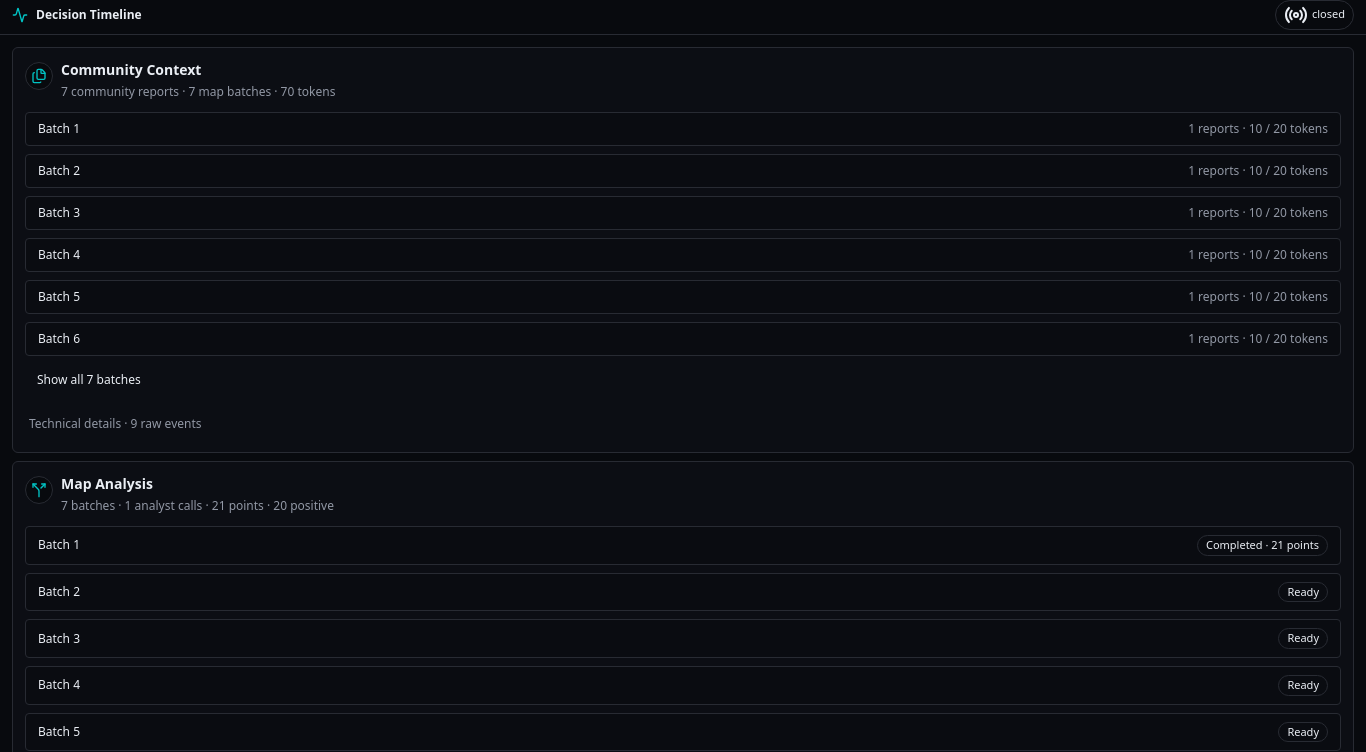
Test: Global Timeline › bounds large batch and point lists with Show all and Show fewer controls
Expected: the text "Batch 7" is not shown
Click the button "Show all 7 batches": [89, 380] box [25, 364, 153, 396]
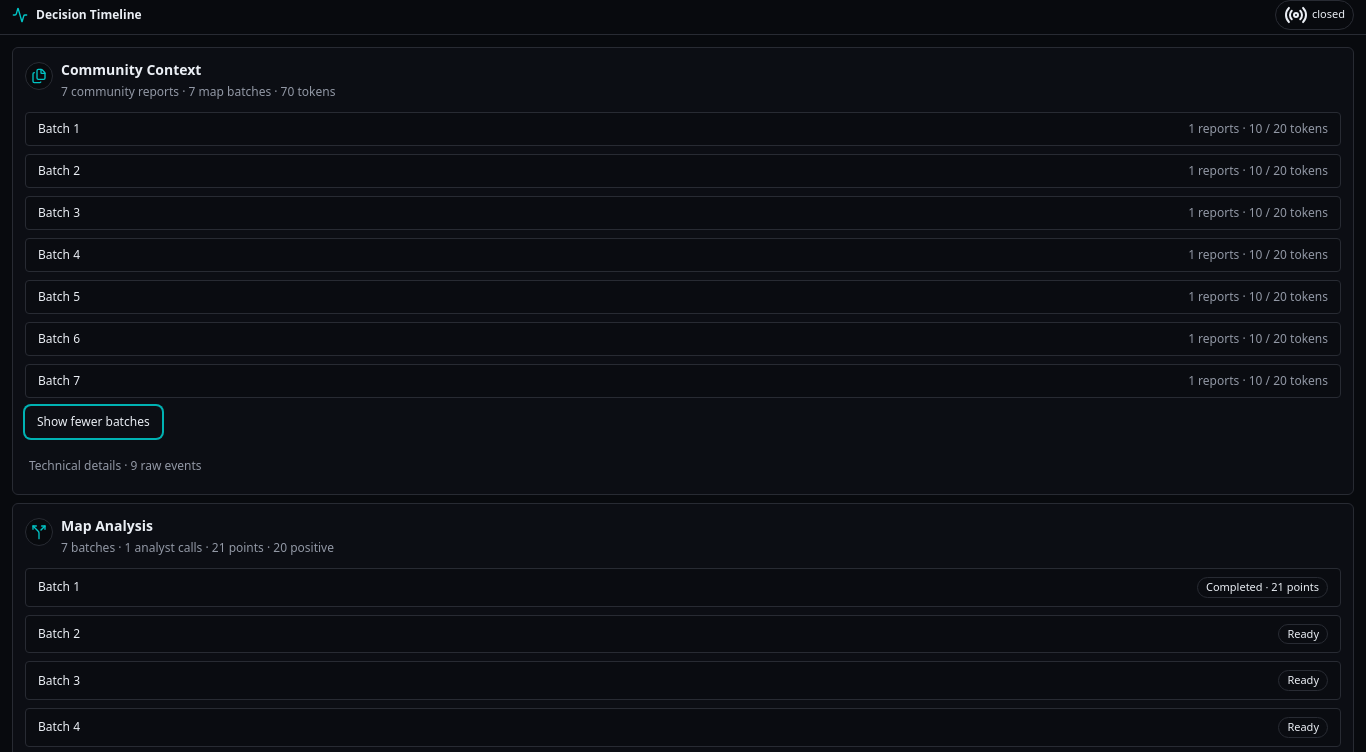
Expected: the text "Batch 7" is shown, [38, 373, 80, 389]
Click the button "Show fewer batches": [93, 422] box [25, 406, 162, 438]
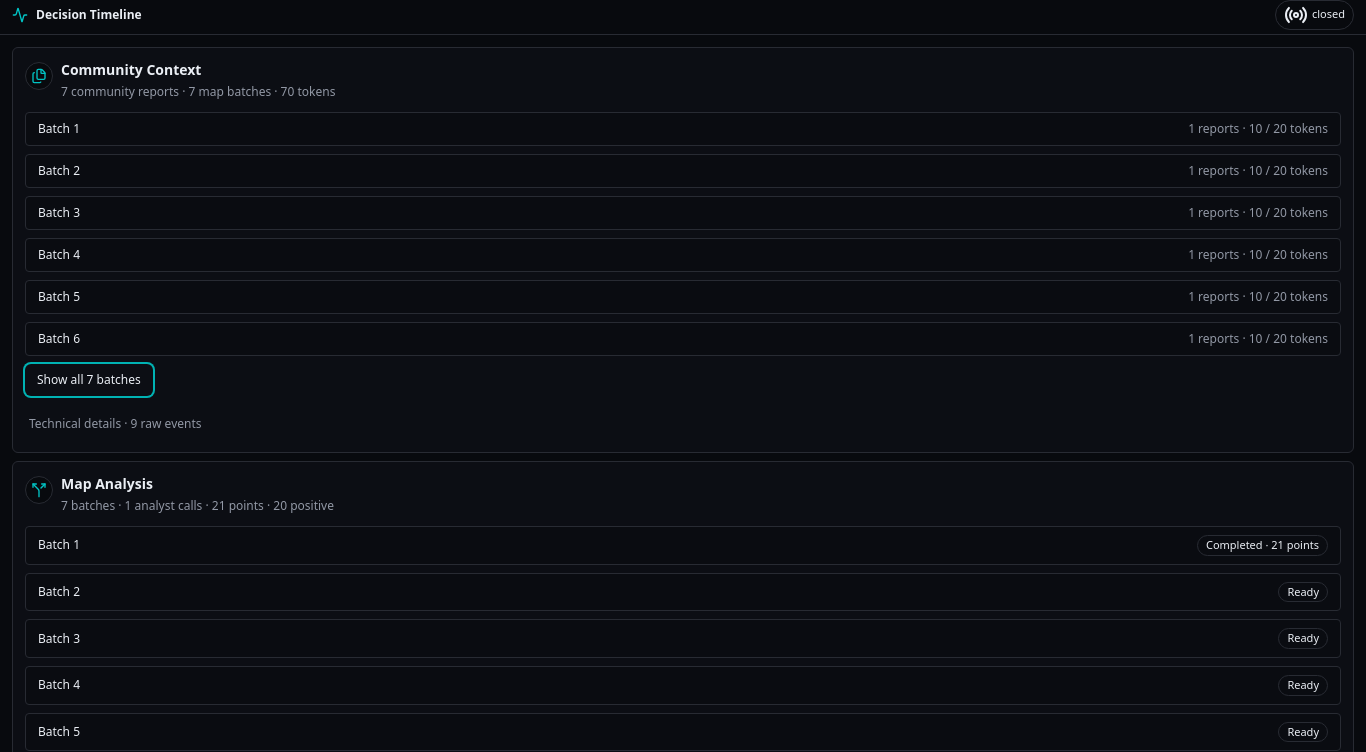
Expected: the button "Batch 7" is gone
Click the button with aria-label "Expand Map analysis batch 1": [56, 545] box [26, 527, 1340, 564]
(page scrolled)
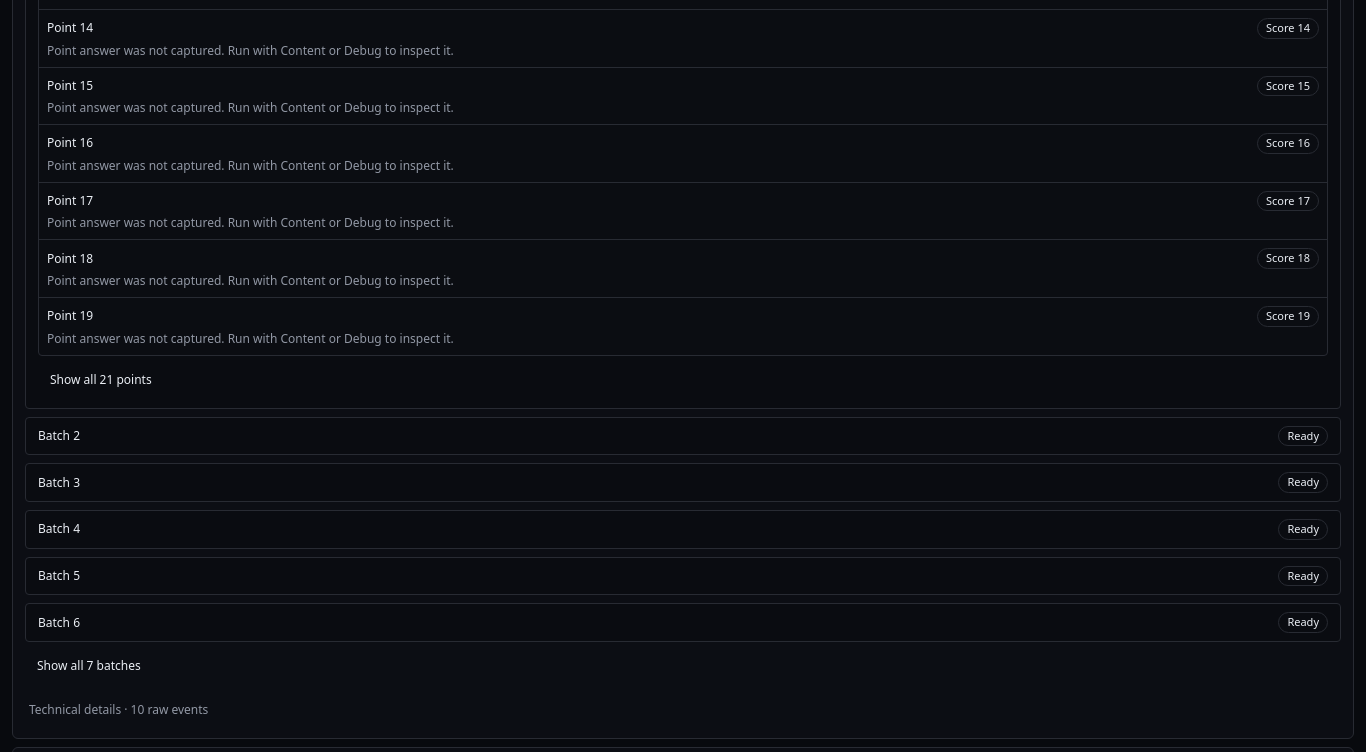
Expected: the text "Point 20" is not shown
Click the button "Show all 21 points": [101, 380] box [38, 364, 164, 396]
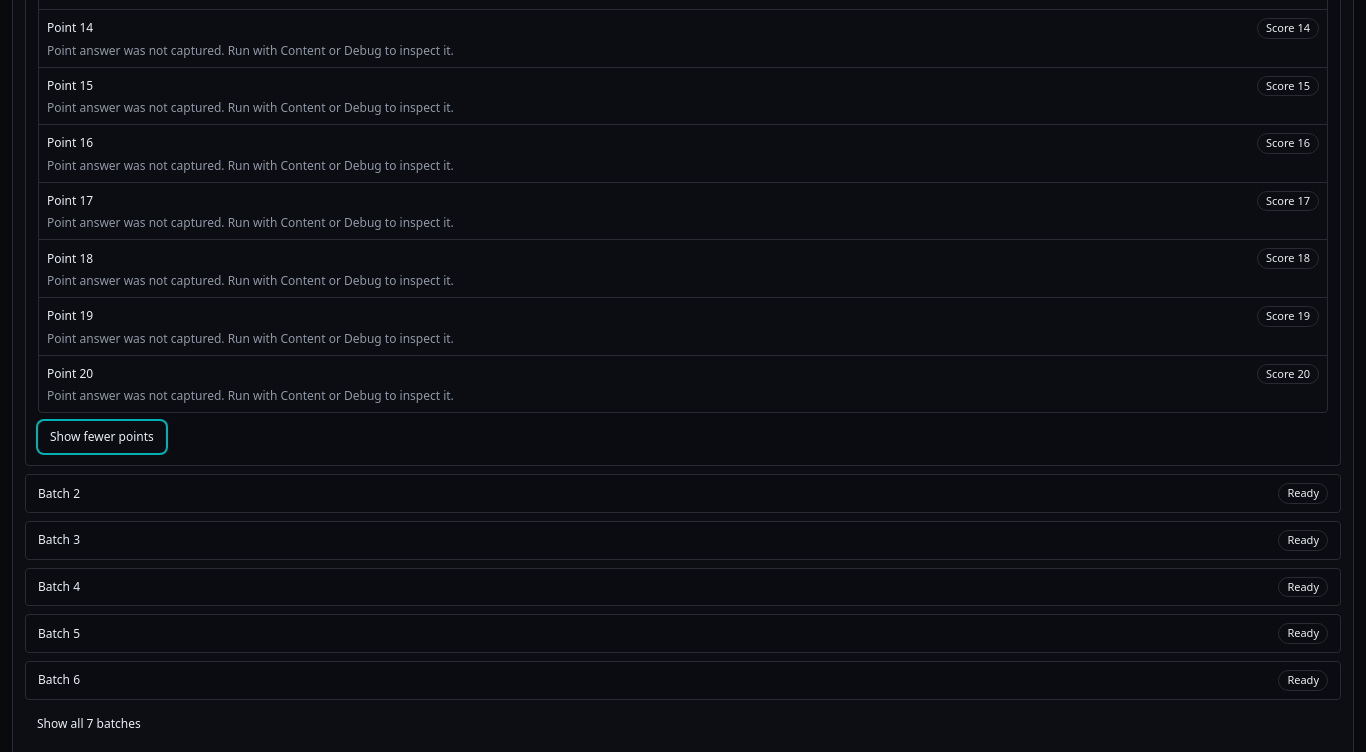
Expected: the text "Point 20" is shown, [47, 366, 93, 382]
Click the button "Show fewer points": [102, 437] box [38, 421, 166, 453]
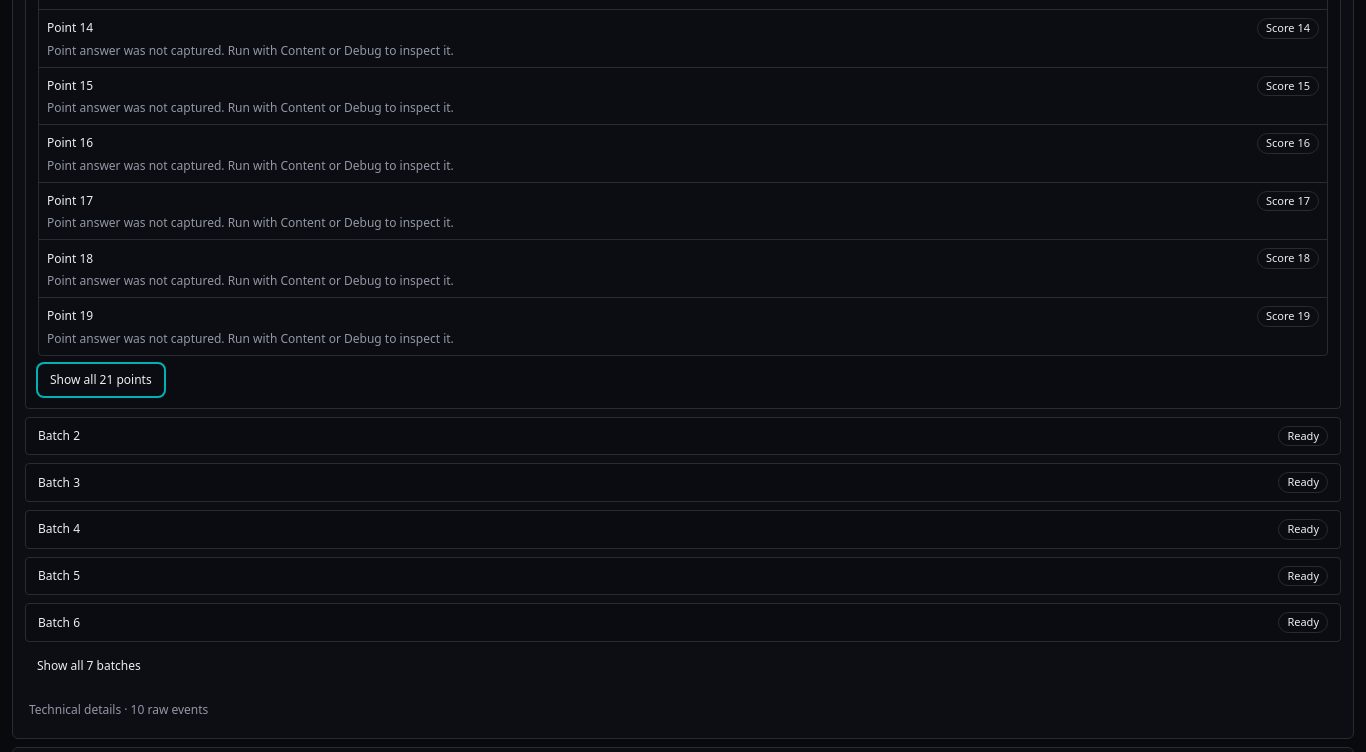
Expected: the text "Point 20" is gone
